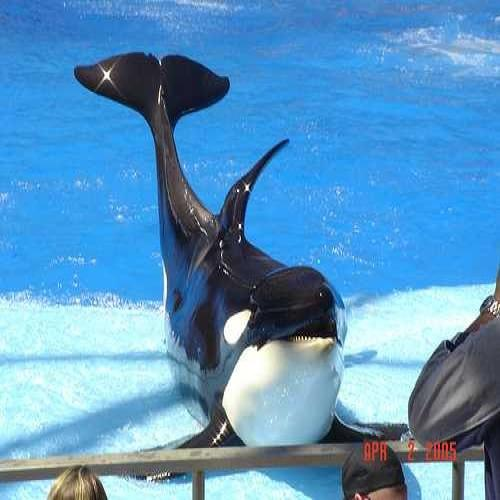killer_whale-endangered: (65, 45, 374, 444)
